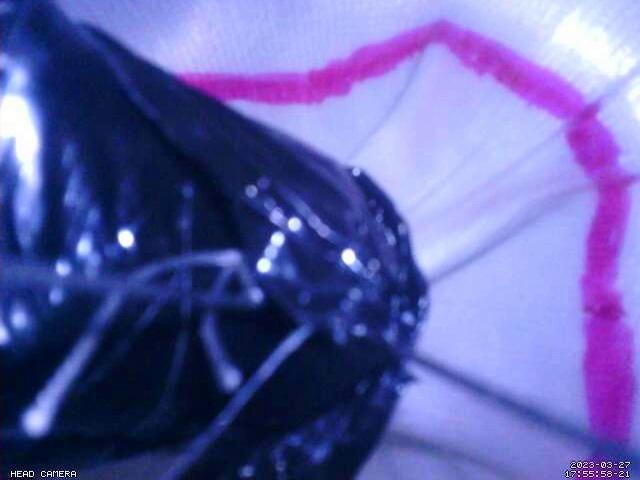red-circle: (174, 19, 638, 480)
